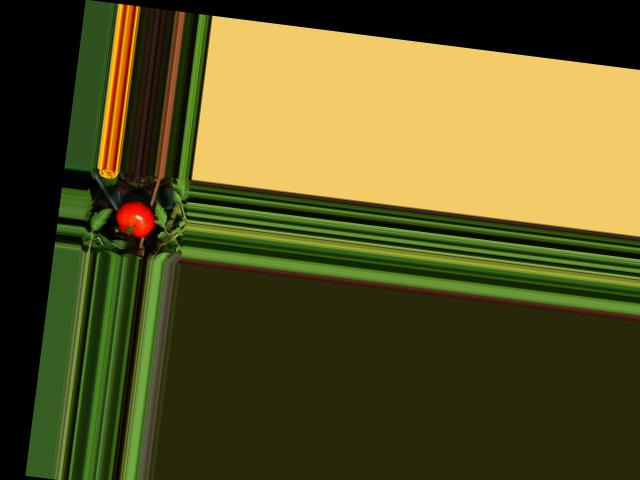tomato: (113, 198, 158, 239)
